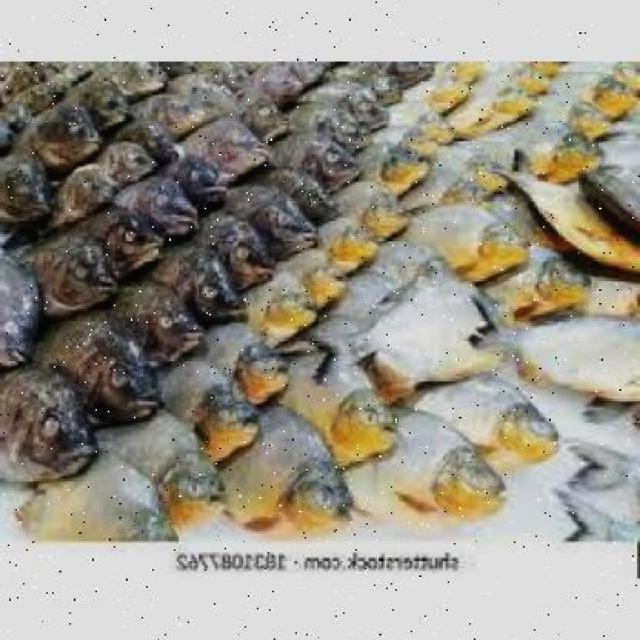ikan-pacu: (237, 408, 346, 540), (38, 454, 177, 536), (392, 406, 494, 514), (296, 364, 402, 466), (451, 376, 555, 454), (413, 203, 519, 268)
